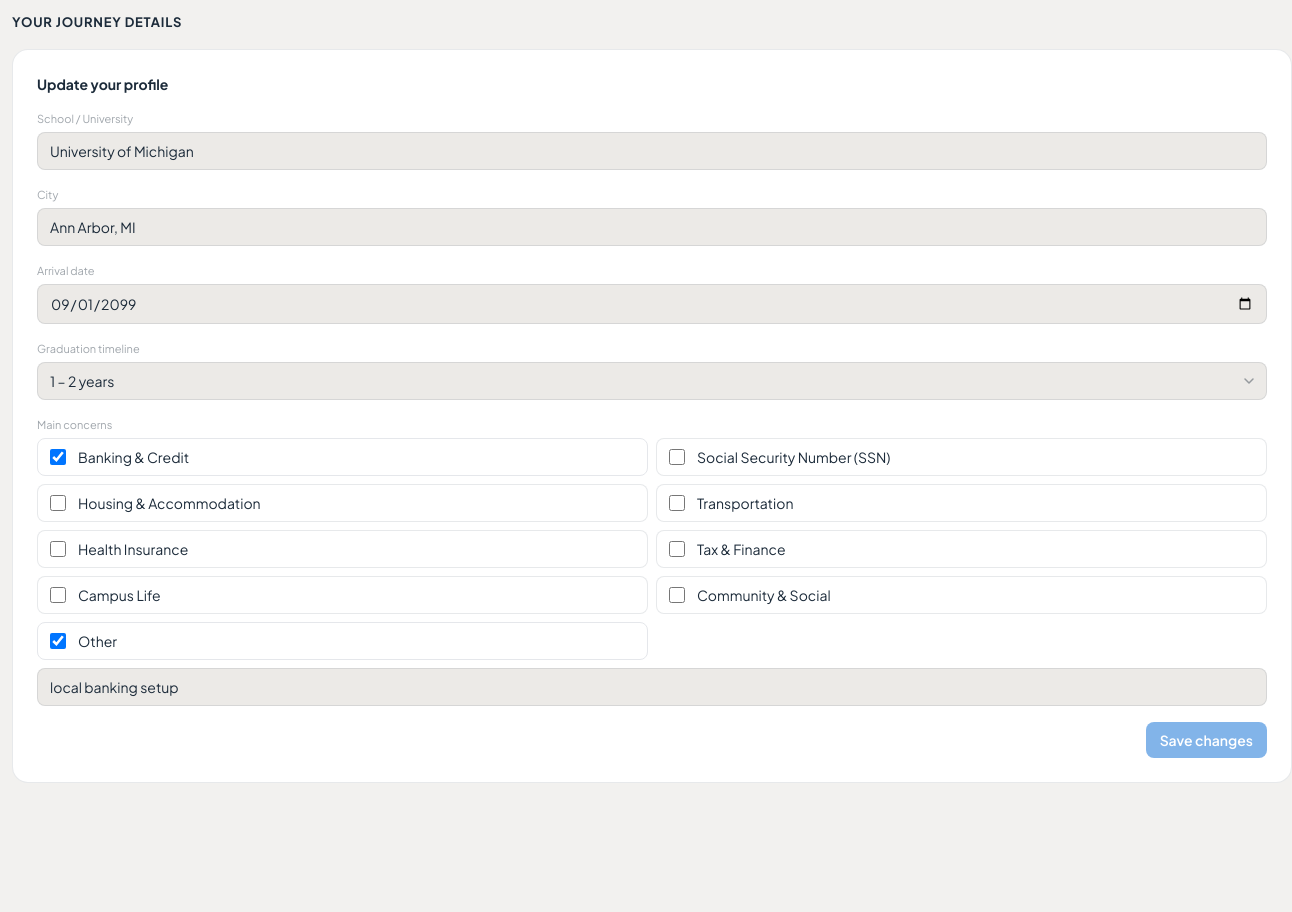
Test: IntakeEditSection › shows the recalculate prompt when arrivalDateChanged is true after save
The width and height of the screenshot is (1292, 912).
In the date field labelled "Arrival date": point(652, 304) [37,284,1267,324], type "2100-01-01"
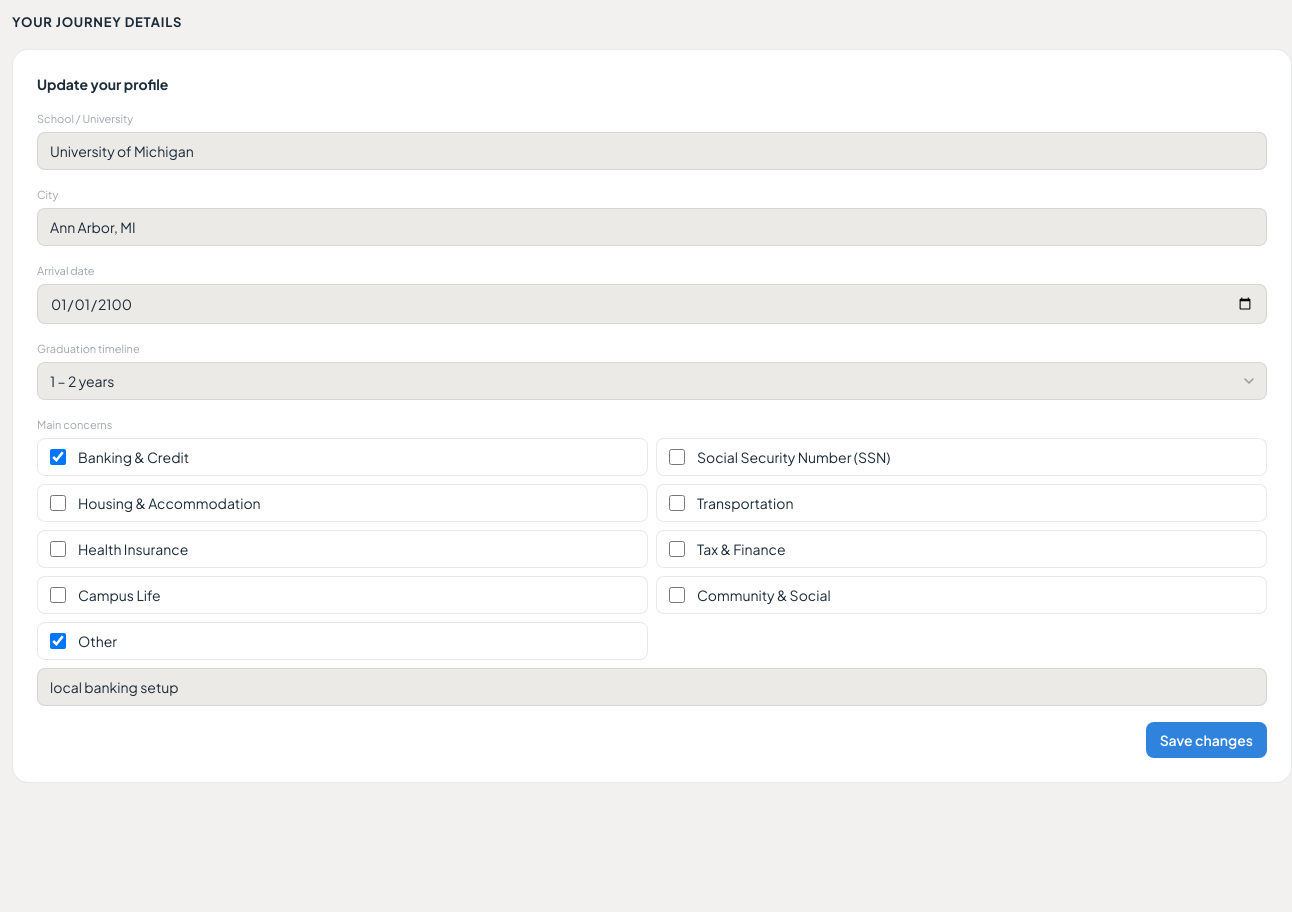
Click the button "Save changes": point(1206, 740) [1146,722,1267,758]
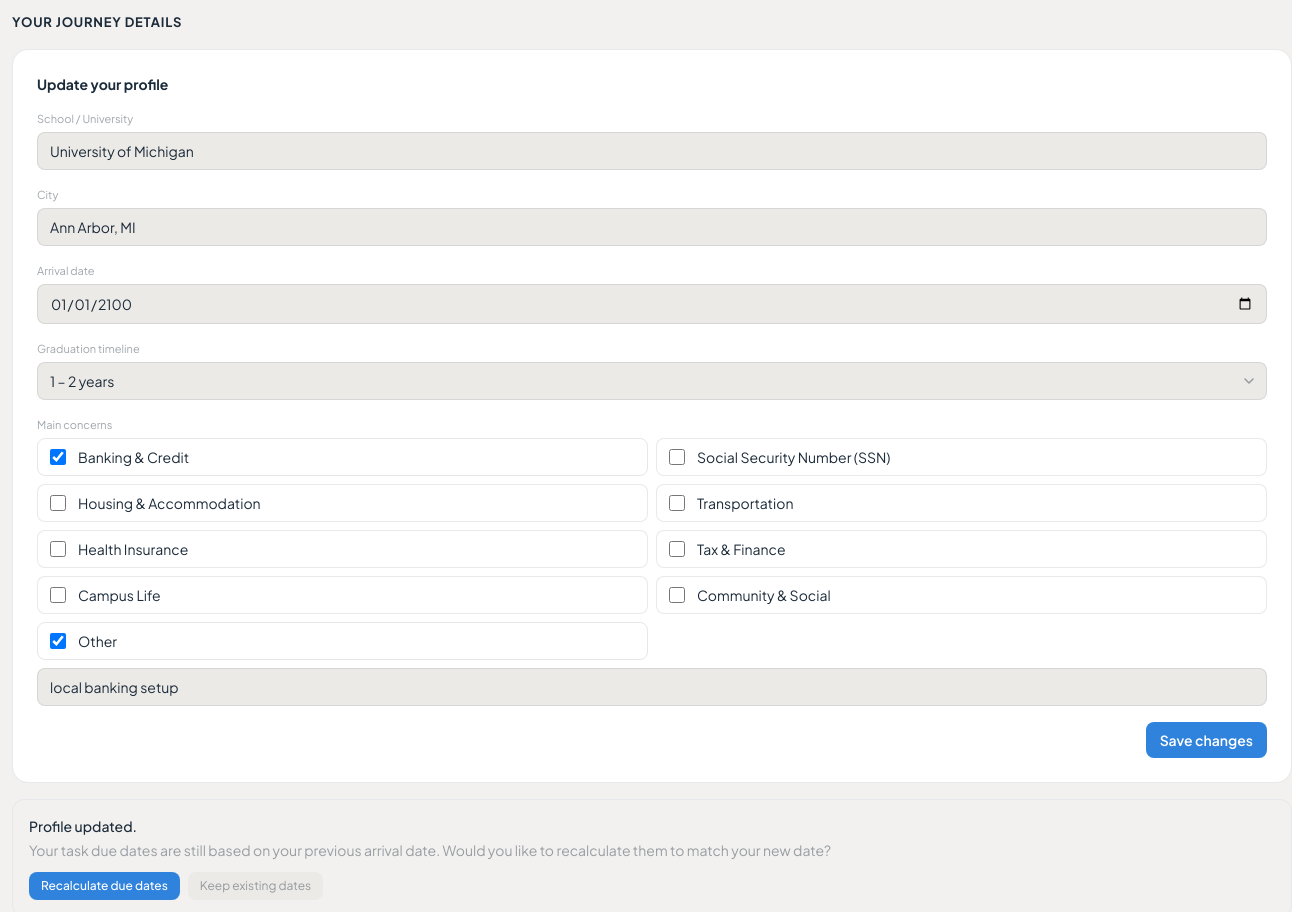
Now the text "would you like to recalculate them" is shown, box [29,840,831,858]
